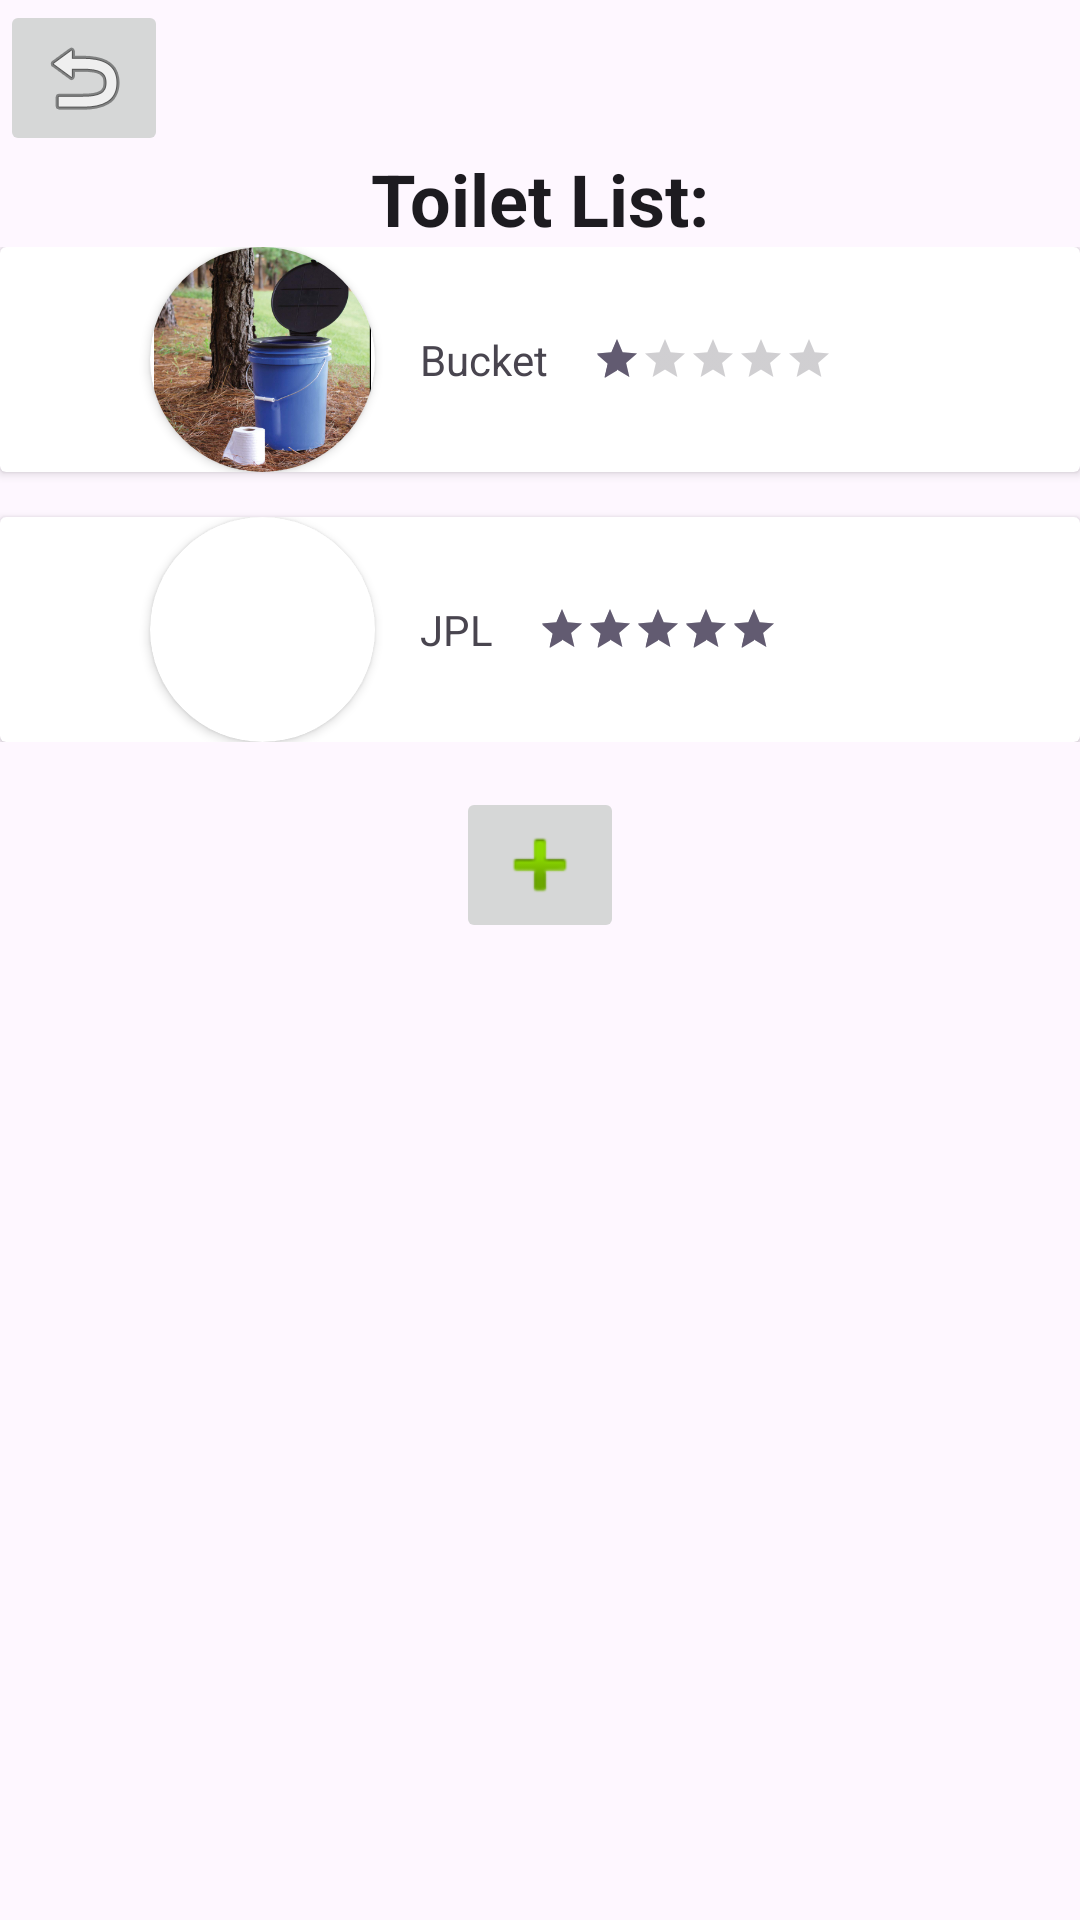

Icon click points for this 1080*1920 phone screenshot, format [x,y]:
add: [540,865]
revert: [84,78]
